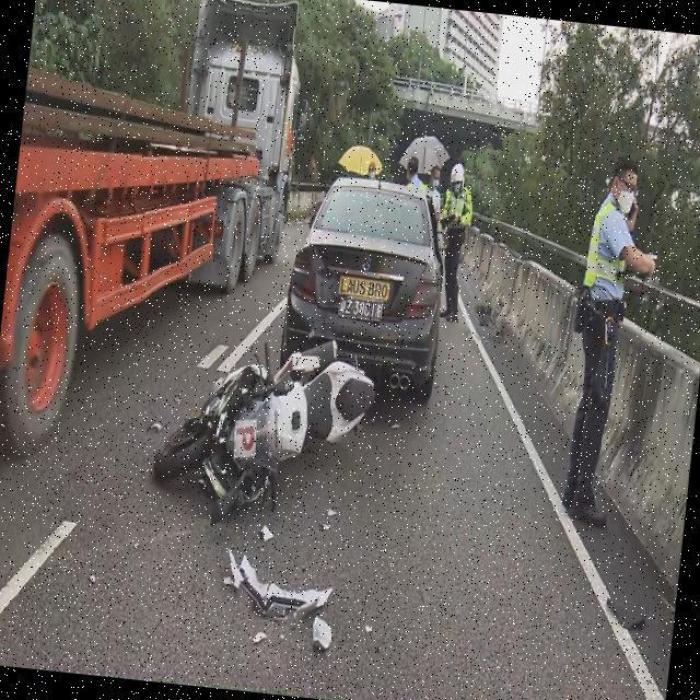Accident: (138, 282, 401, 549)
